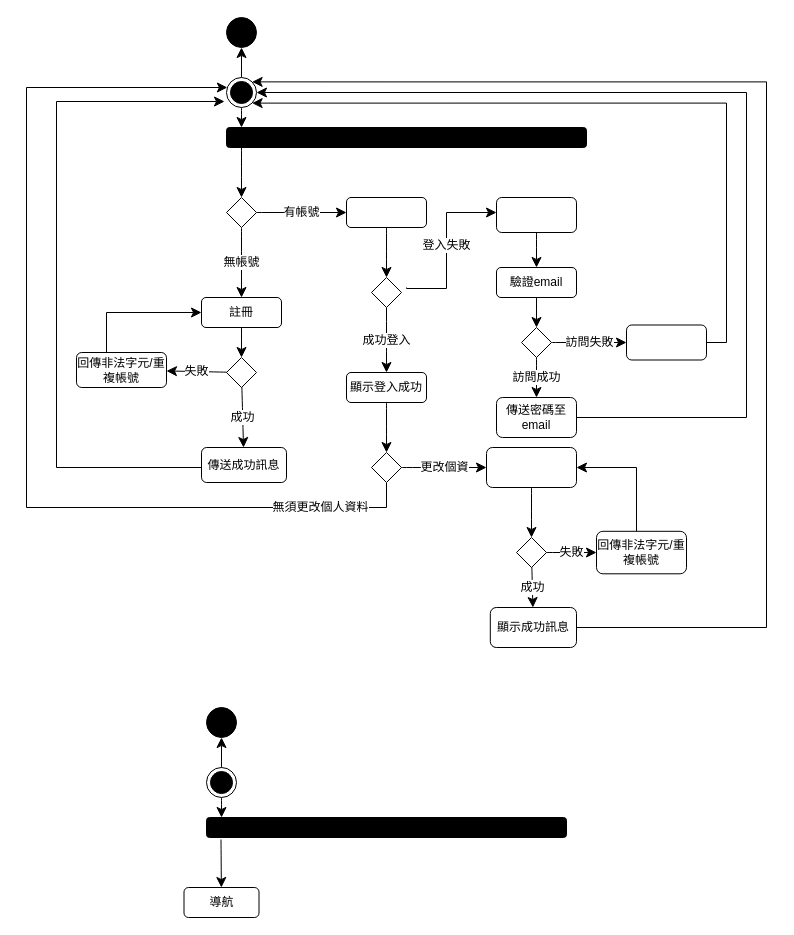
Image size: 794x935. Some labels were removed from this diagram. The shapes that lost their labels are listed below. From the top down, each one's centre as x and y in pixels, then its label:
At pixel 386 212: "登入".
At pixel 536 214: "顯示忘記密碼選項".
At pixel 666 342: "回傳錯誤並且拒絕訪問".
At pixel 531 467: "顯示更改資料頁面".
